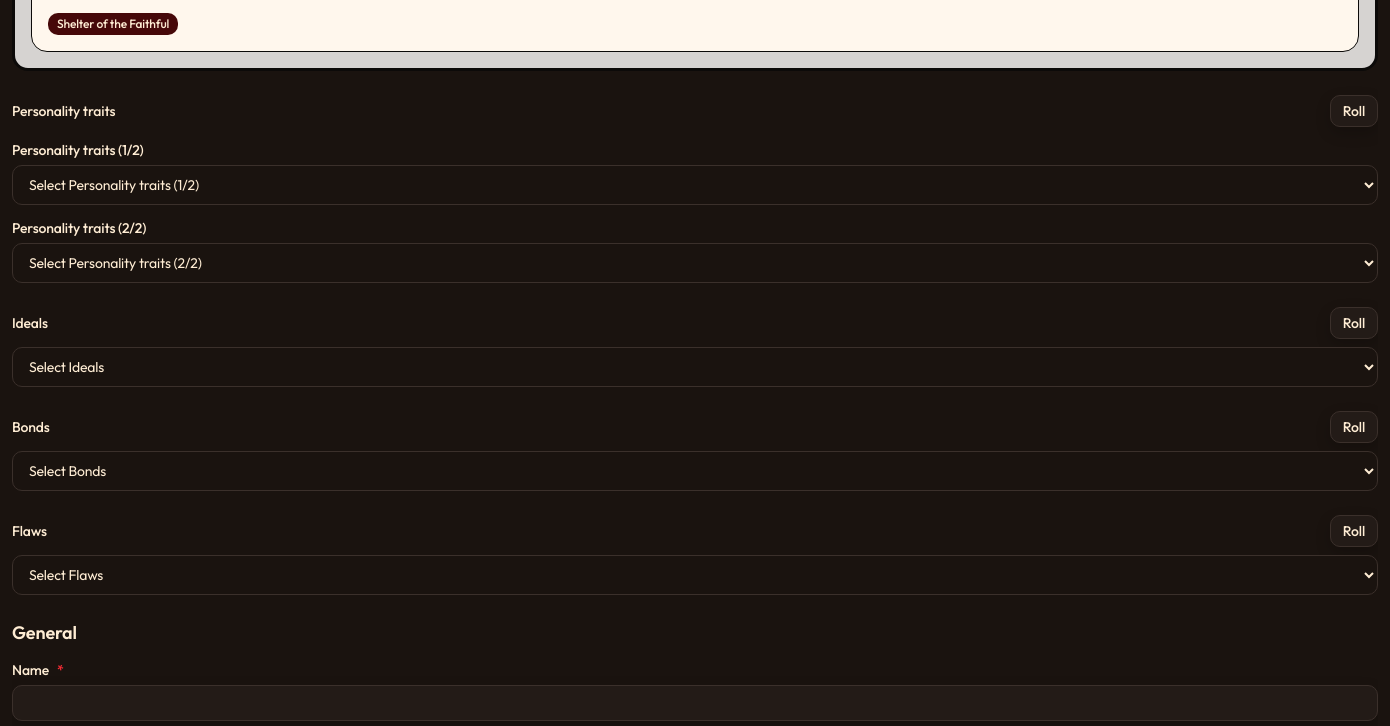
Scenario: BackgroundSelectionPage flavor pickers › shows bound Acolyte tables and writes a SRD ideal label
The width and height of the screenshot is (1390, 726).
(page scrolled)
expect the dropdown labelled "Bonds" is shown: met, box left=12, top=451, right=1378, bottom=491
expect the dropdown labelled "Flaws" is shown: met, box left=12, top=555, right=1378, bottom=595
Select "Charity. I always try to help those in need, regardless of what it costs me. (Go" in the dropdown labelled "Ideals": (695,367) left=12, top=347, right=1378, bottom=387
(page scrolled)
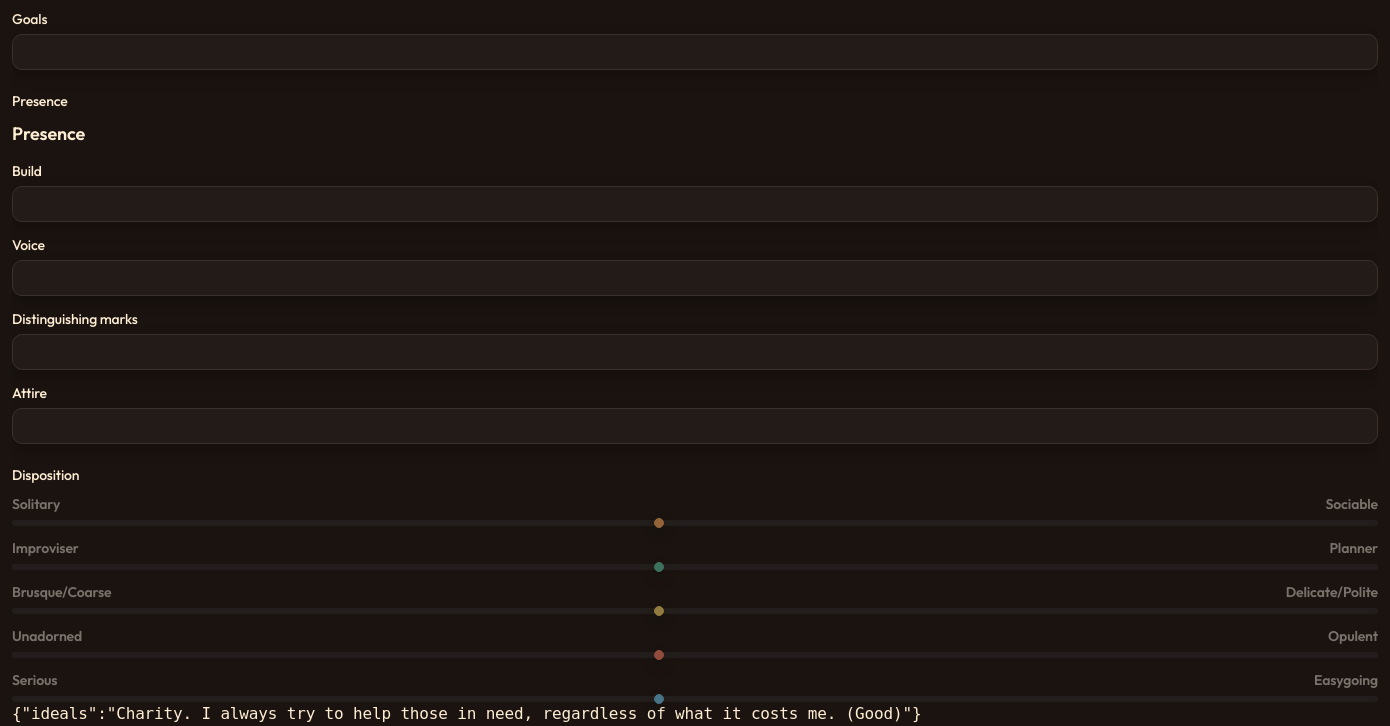
expect the text with test id "form-output" shows "Charity. I always try to help those in need, regardless of what it costs me. (Good)": met, box left=12, top=704, right=921, bottom=723
